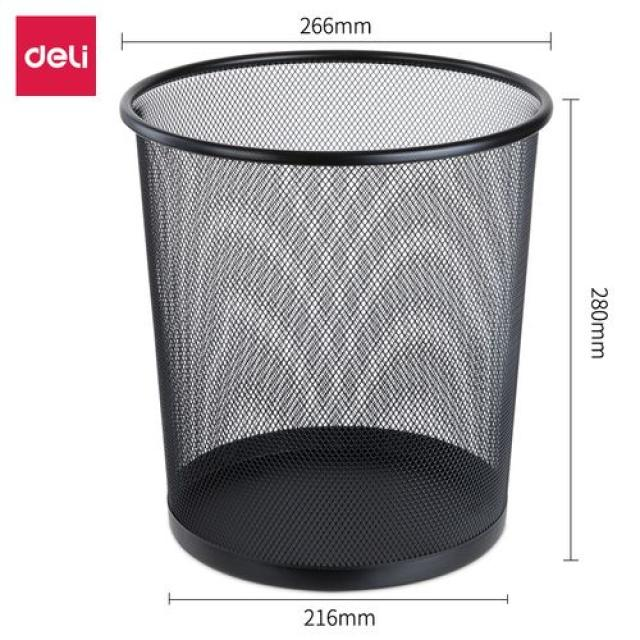dustbin: (118, 44, 558, 594)
